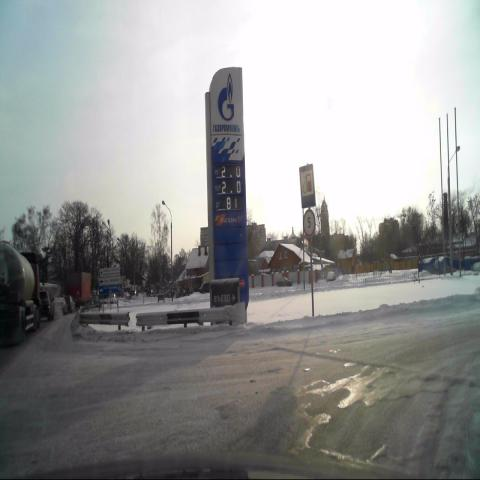7_3: (299, 162, 316, 208)
